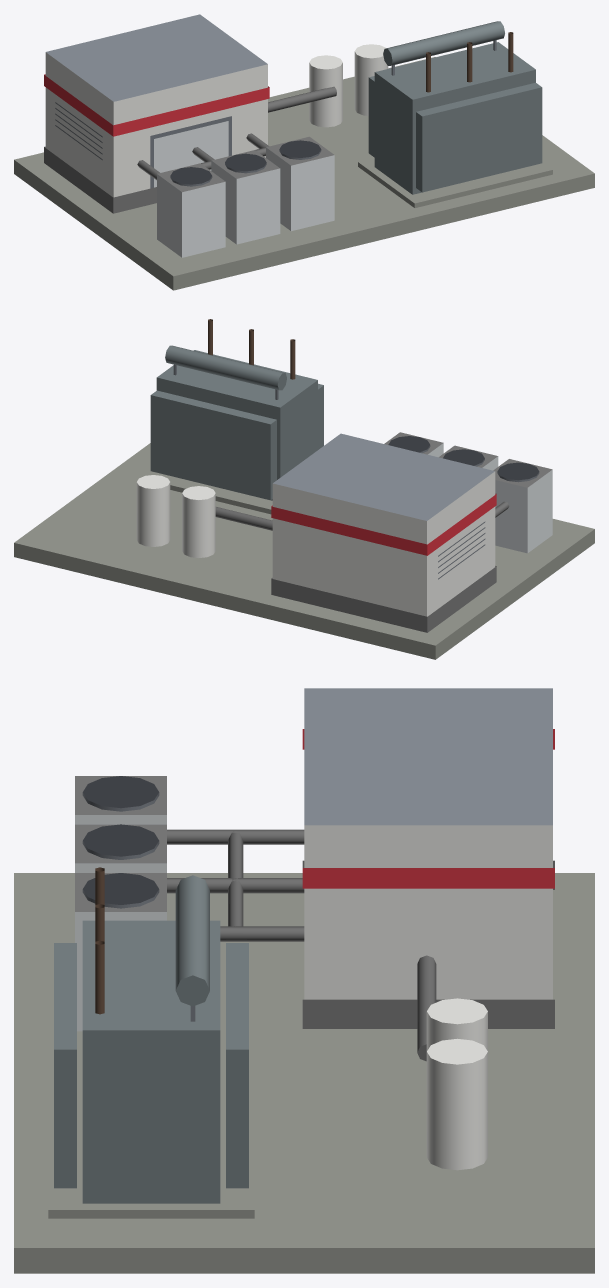
File: mashup-utility-top-prebuilt.fbx
3 renders of one model, top to bottom at view 1: azimuth 30°, elevation 25°; view 2: azimuth 150°, elevation 25°; view 3: azimuth 270°, elevation 25°, orthographic. The views are drawn at different scales.
Visible parts, largest first — view 1: a1029/0/mashup-utility-top-prebuilt; view 2: a1029/0/mashup-utility-top-prebuilt; view 3: a1029/0/mashup-utility-top-prebuilt.
Boxes of the visible parts, bbox=[...] form: a1029/0/mashup-utility-top-prebuilt: bbox=[14, 14, 594, 290]; a1029/0/mashup-utility-top-prebuilt: bbox=[14, 319, 594, 659]; a1029/0/mashup-utility-top-prebuilt: bbox=[14, 688, 594, 1273].
Size of the model in its own units: 23.2 by 8 by 15.2.
